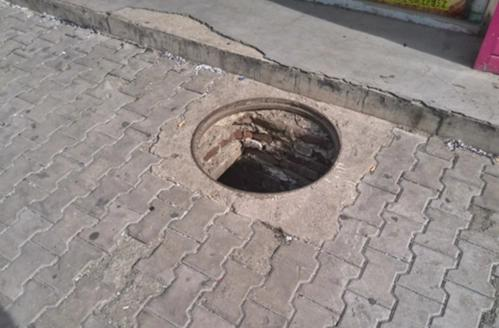wellcover: (185, 92, 346, 195)
